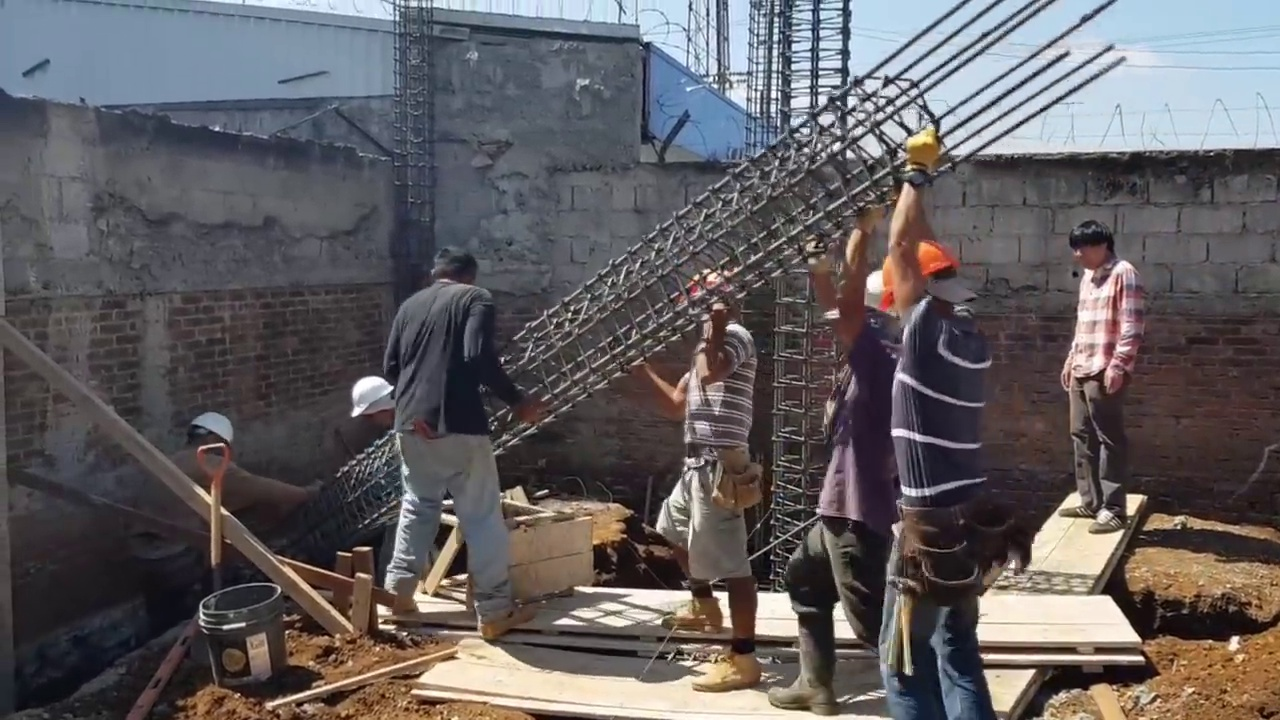helmet: (906, 234, 961, 284), (858, 266, 901, 324), (348, 377, 391, 420), (190, 408, 234, 449), (679, 275, 734, 306)
helmet-off: (1073, 222, 1122, 275), (425, 247, 478, 291)
helmet-on: (823, 264, 901, 350), (903, 233, 976, 315), (341, 377, 397, 437), (679, 271, 739, 323), (181, 410, 234, 460)
person: (889, 122, 1004, 711), (379, 245, 534, 660), (793, 202, 900, 703), (129, 408, 321, 634), (660, 257, 764, 666), (1062, 222, 1148, 550)
